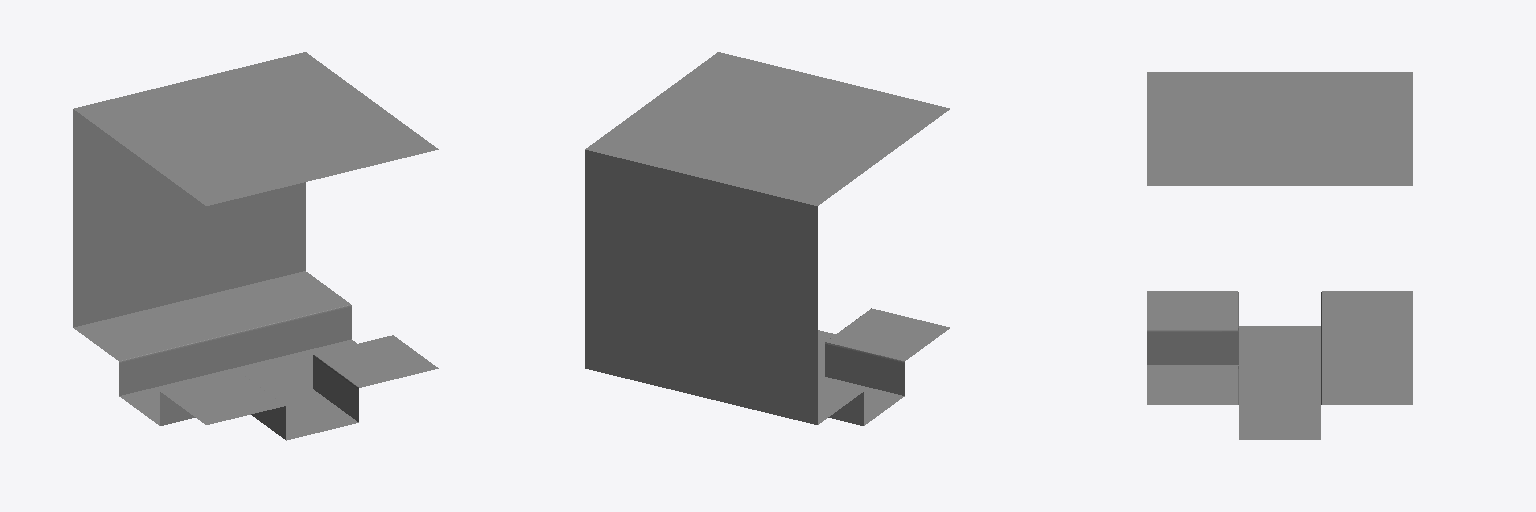
The model's file is t_intersection_tile.obj.
3 views of the same model, side by side, from view 1: azimuth 30°, elevation 25°; view 2: azimuth 150°, elevation 25°; view 3: azimuth 270°, elevation 25° (orthographic).
Visible parts, largest first — view 1: corridor_T_intersection_polySurface12; view 2: corridor_T_intersection_polySurface12; view 3: corridor_T_intersection_polySurface12.
Boxes of the visible parts, box(x1,y1,x2,y2) form: corridor_T_intersection_polySurface12: box(73, 52, 438, 440); corridor_T_intersection_polySurface12: box(585, 52, 949, 425); corridor_T_intersection_polySurface12: box(1147, 72, 1412, 439).
Size of the model in its own units: 307 by 320 by 305.